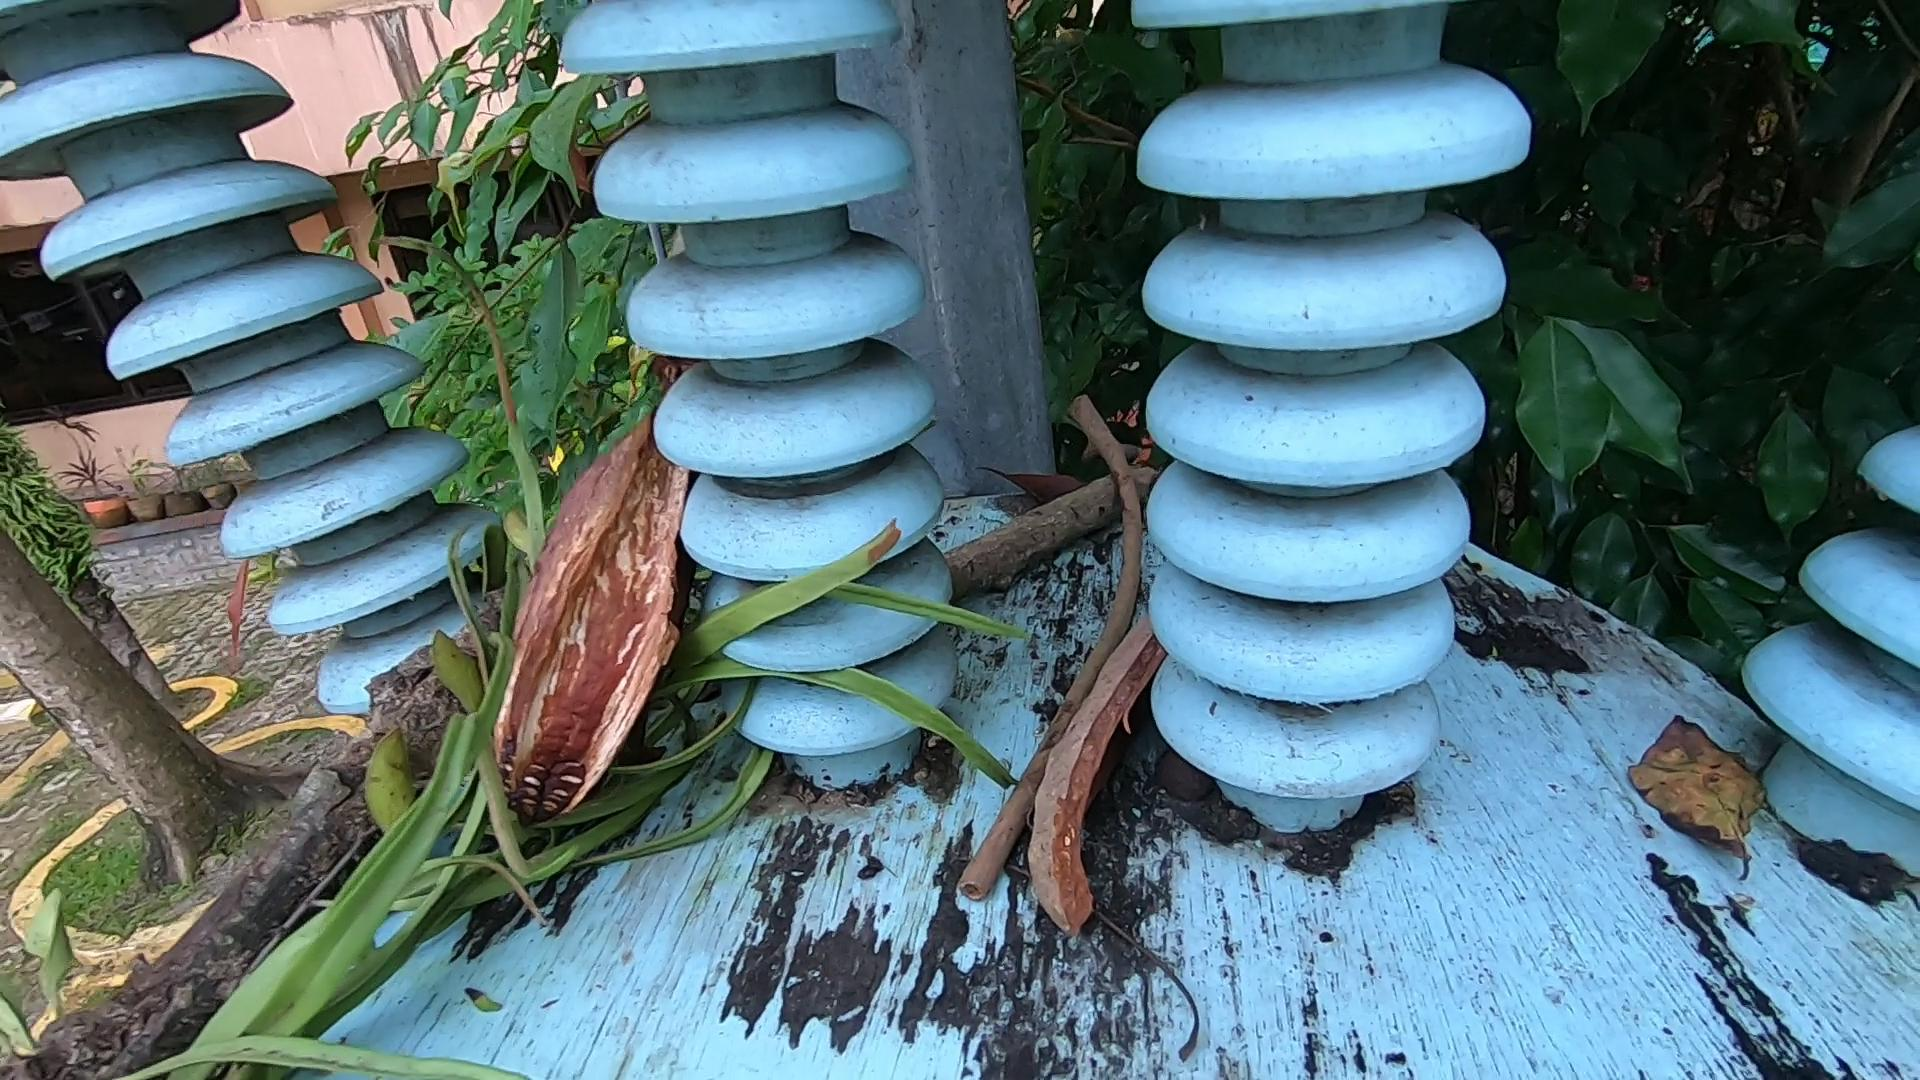branch with leaves: (4, 262, 1035, 1080)
leaf: (1631, 707, 1766, 874)
mahogany fruit: (1014, 417, 1197, 1011), (501, 392, 716, 833)
tree branch: (957, 369, 1137, 901), (943, 454, 1145, 592)
